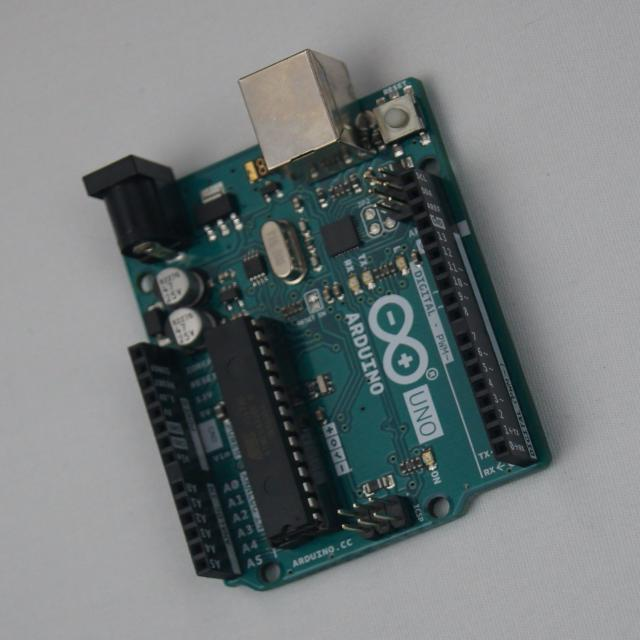Arduino Uno -Green-: (85, 50, 550, 590)
